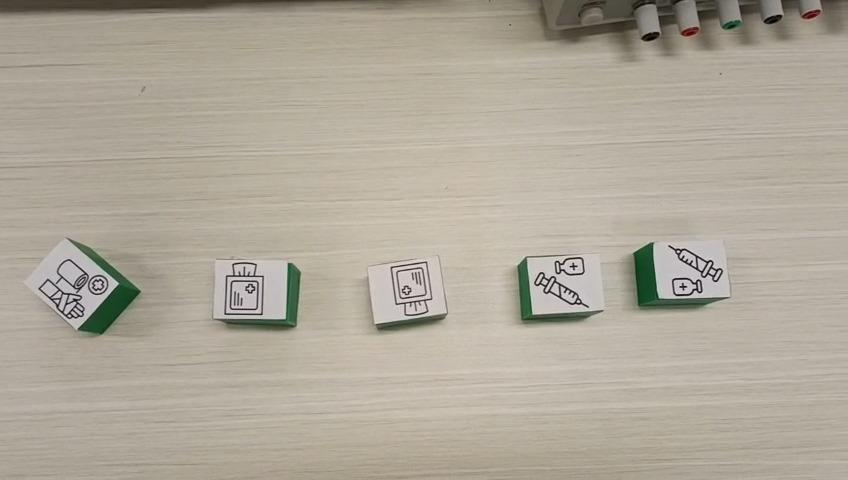Bandages: (22, 236, 141, 334)
Gauze: (366, 255, 450, 330), (212, 258, 300, 328)
antiseptic cream: (633, 238, 731, 307), (517, 252, 606, 321)
